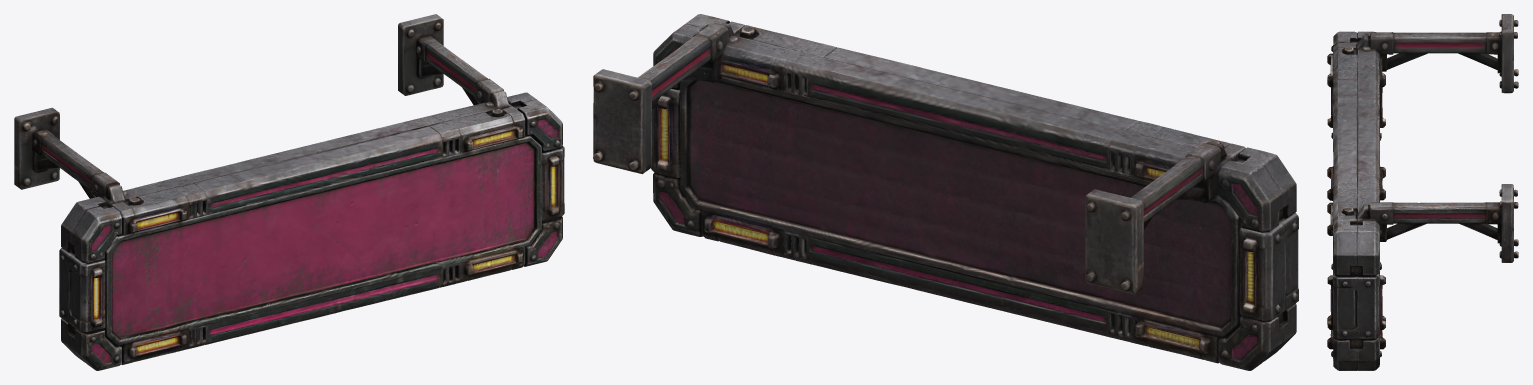
Rendered from kairox-shop-sign.glb.
The picture shows the model from 3 angles, left to right: view 1: azimuth 30°, elevation 25°; view 2: azimuth 150°, elevation 25°; view 3: azimuth 270°, elevation 25°; orthographic projection. The views are drawn at different scales.
Visible parts, largest first — view 1: kairox-shop-sign; view 2: kairox-shop-sign; view 3: kairox-shop-sign.
Part boxes in pixels (<box>): kairox-shop-sign: <box>14,14,564,370</box>; kairox-shop-sign: <box>593,14,1298,370</box>; kairox-shop-sign: <box>1327,14,1518,370</box>.
Bounding box in the file's own units: 4 × 1.44 × 1.49.
1 material, 1 textured.
